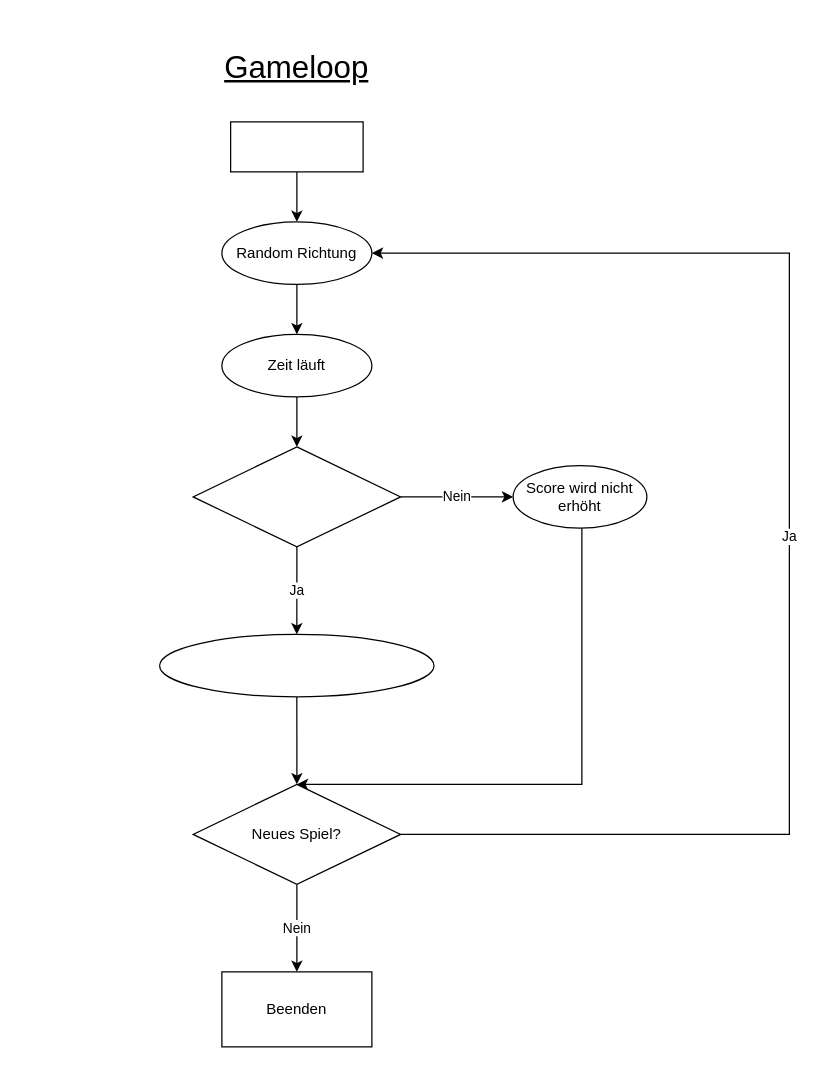
Image size: 821x1069. Some labels were removed from this diagram. Each missing label, with the centre of its shape:
"Score um Sekunde - Reaktionszeit erhöhen" belongs at (296,665).
"Start" belongs at (296,146).
"Wurde innerhalt einer Sekunde gedrückt?" belongs at (296,496).
